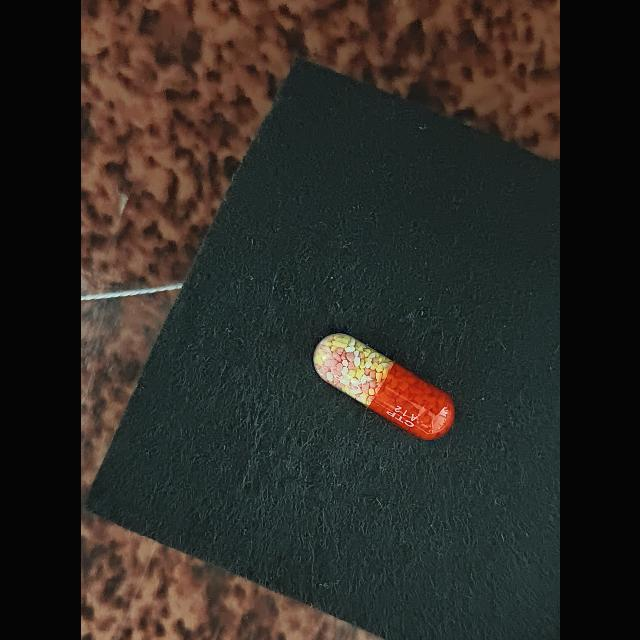Intact Capsule: (313, 333, 455, 440)
